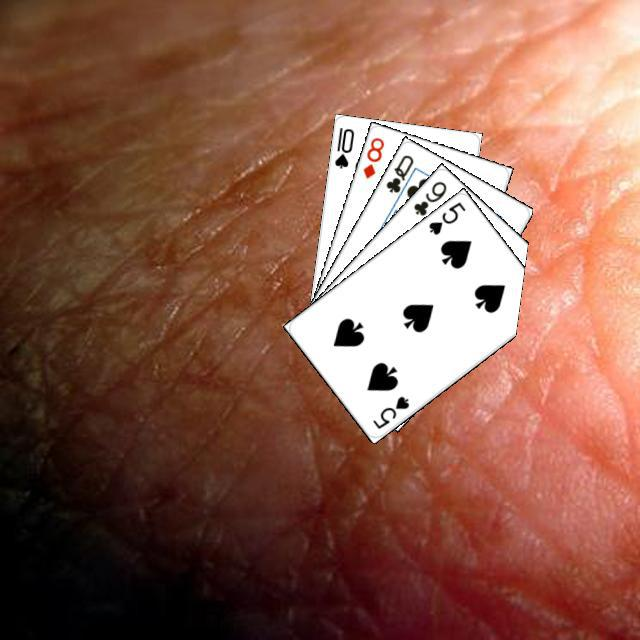10s: (330, 122, 356, 170)
5s: (367, 391, 411, 431), (424, 197, 467, 236)
8d: (358, 132, 386, 180)
9c: (409, 176, 448, 217)
Qc: (381, 150, 420, 203)
